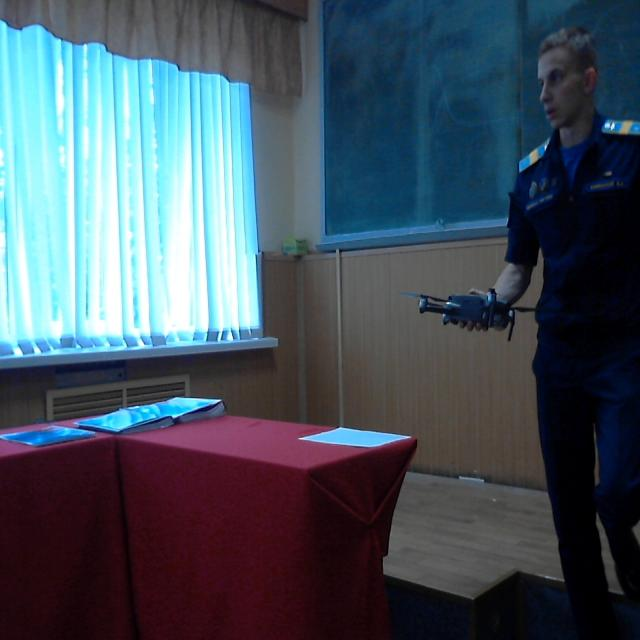drone: (402, 269, 545, 349)
